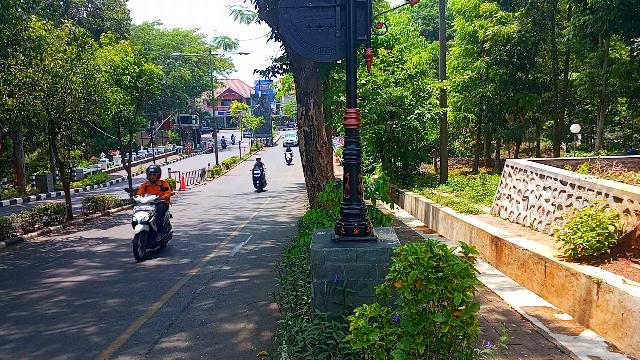helm: (147, 166, 162, 182), (257, 157, 262, 163)
motor: (128, 195, 175, 262), (252, 168, 269, 192)
